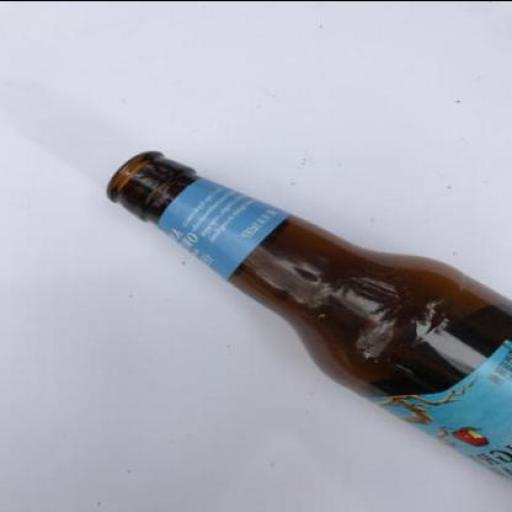glass: (104, 149, 510, 480)
